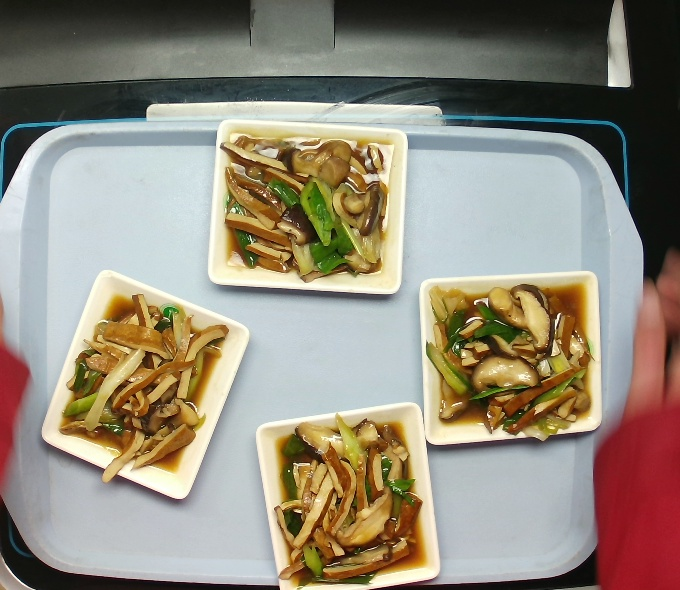wcq-XiangGuChaoXiangGan: (54, 292, 233, 486), (422, 277, 600, 442), (215, 129, 397, 287), (271, 409, 426, 590)
